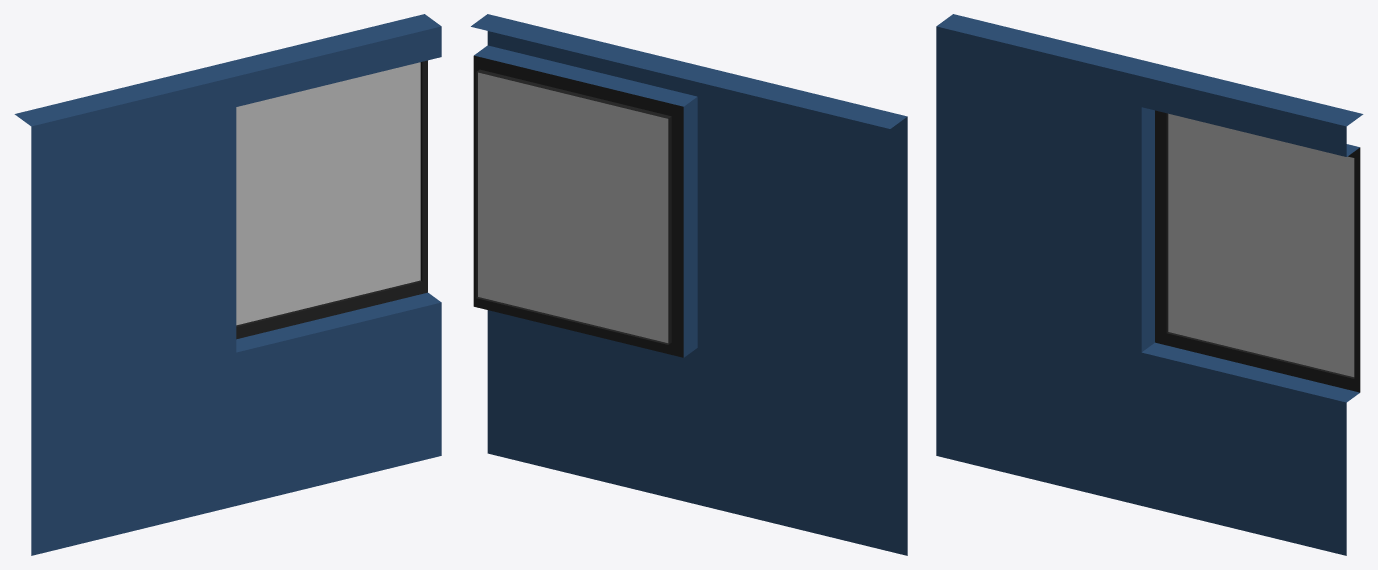
Rendered from M_WallWindow200Blue50.fbx.
3 views of the same model, side by side, from view 1: azimuth 30°, elevation 25°; view 2: azimuth 150°, elevation 25°; view 3: azimuth 330°, elevation 25° (orthographic). The views are drawn at different scales.
Parts seen in each view (by area): view 1: M_WallWindow200Blue50; view 2: M_WallWindow200Blue50; view 3: M_WallWindow200Blue50.
Part boxes in pixels (x1=…): M_WallWindow200Blue50: x1=14, y1=14, x2=441, y2=555; M_WallWindow200Blue50: x1=471, y1=14, x2=907, y2=555; M_WallWindow200Blue50: x1=936, y1=14, x2=1363, y2=555.
Bounding box in the file's own units: 350 × 25 × 350.
